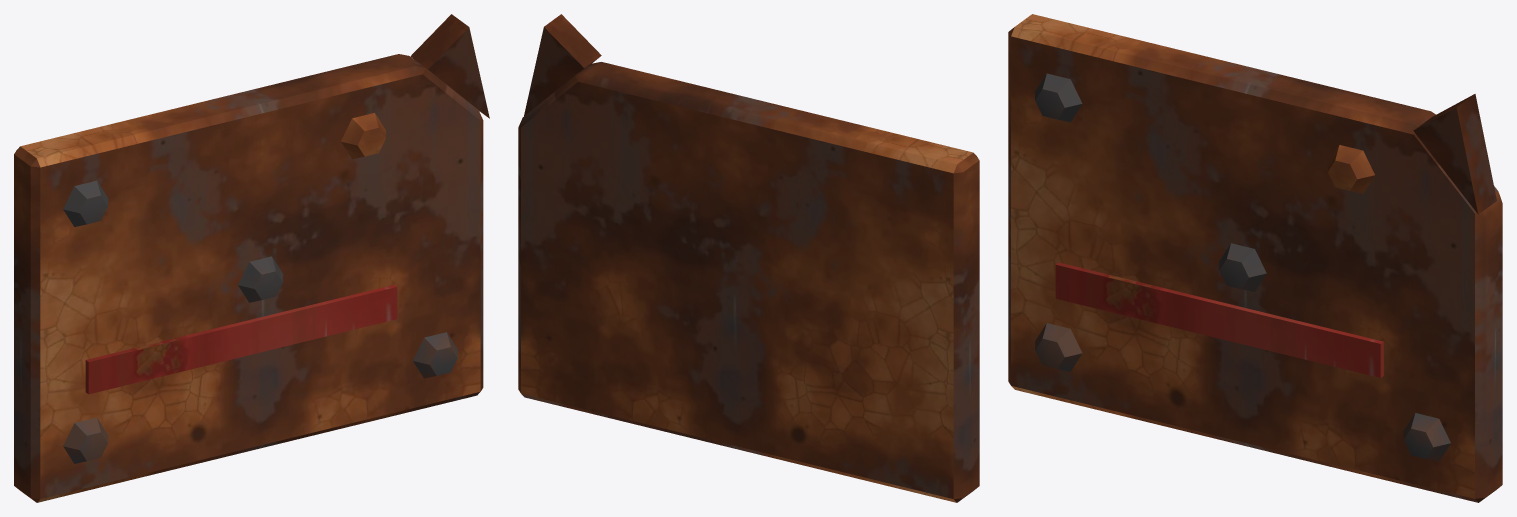
The model's file is Loot_Plate.glb.
The picture shows the model from 3 angles, left to right: view 1: azimuth 30°, elevation 25°; view 2: azimuth 150°, elevation 25°; view 3: azimuth 330°, elevation 25°; orthographic projection. The views are drawn at different scales.
Visible parts, largest first — view 1: Loot_Plate; view 2: Loot_Plate; view 3: Loot_Plate.
Part boxes in pixels (box(x1,y1,x2,y2)): Loot_Plate: box(14, 14, 489, 502); Loot_Plate: box(518, 14, 979, 502); Loot_Plate: box(1008, 14, 1502, 502).
Bounding box in the file's own units: 0.44 × 0.35 × 0.0557.
Materials: 3 (3 with a texture image).
